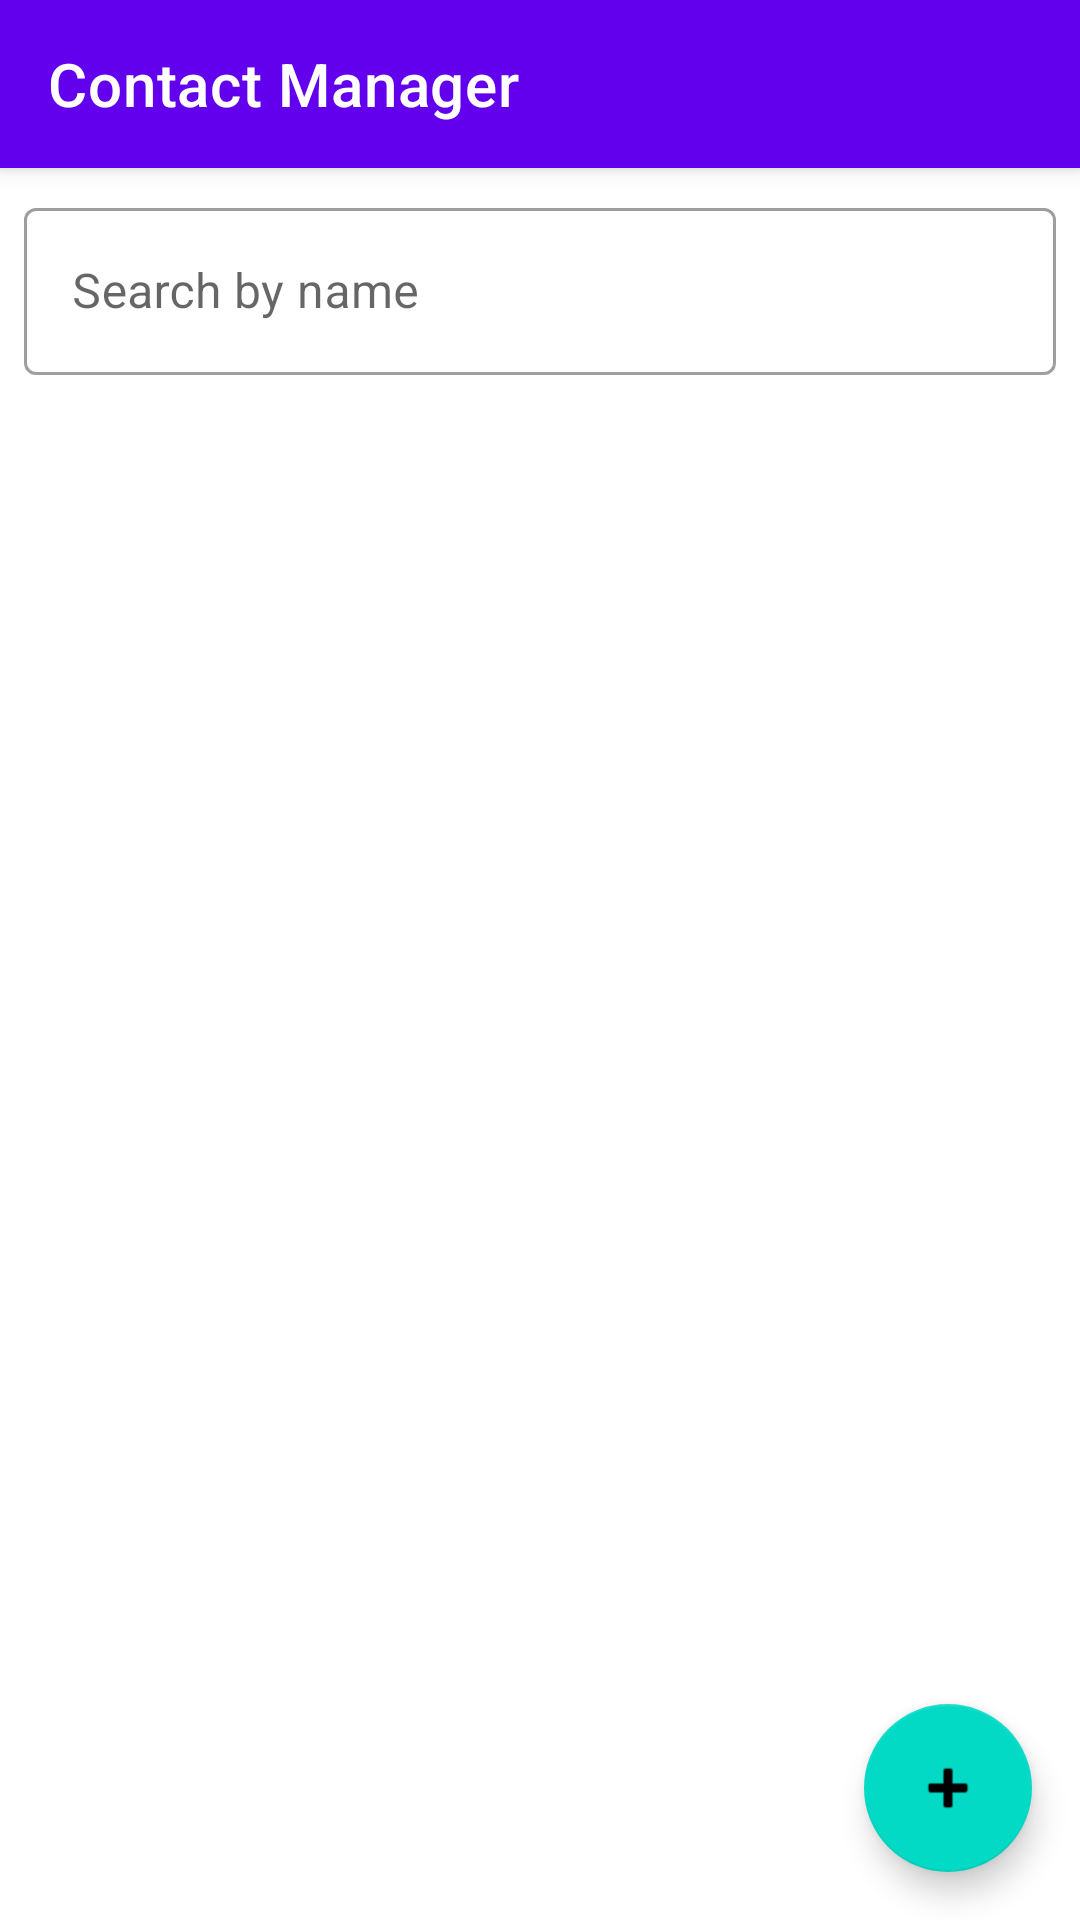

Screen size 1080 x 1920. Icon name, then its center in pixels as (x,y):
Add contact: (948,1788)
